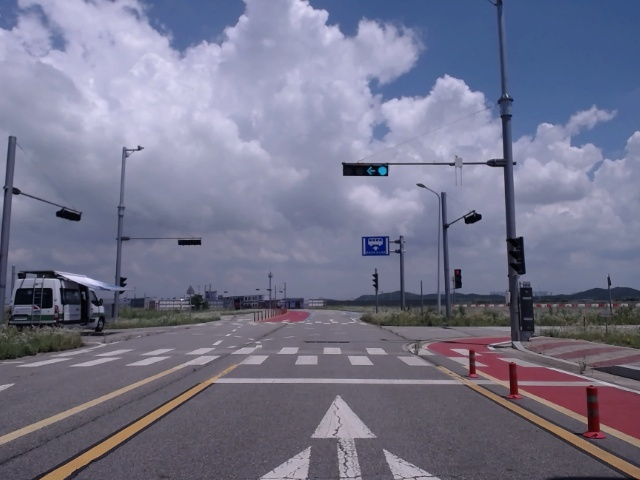all_green_4: (345, 161, 389, 175)
